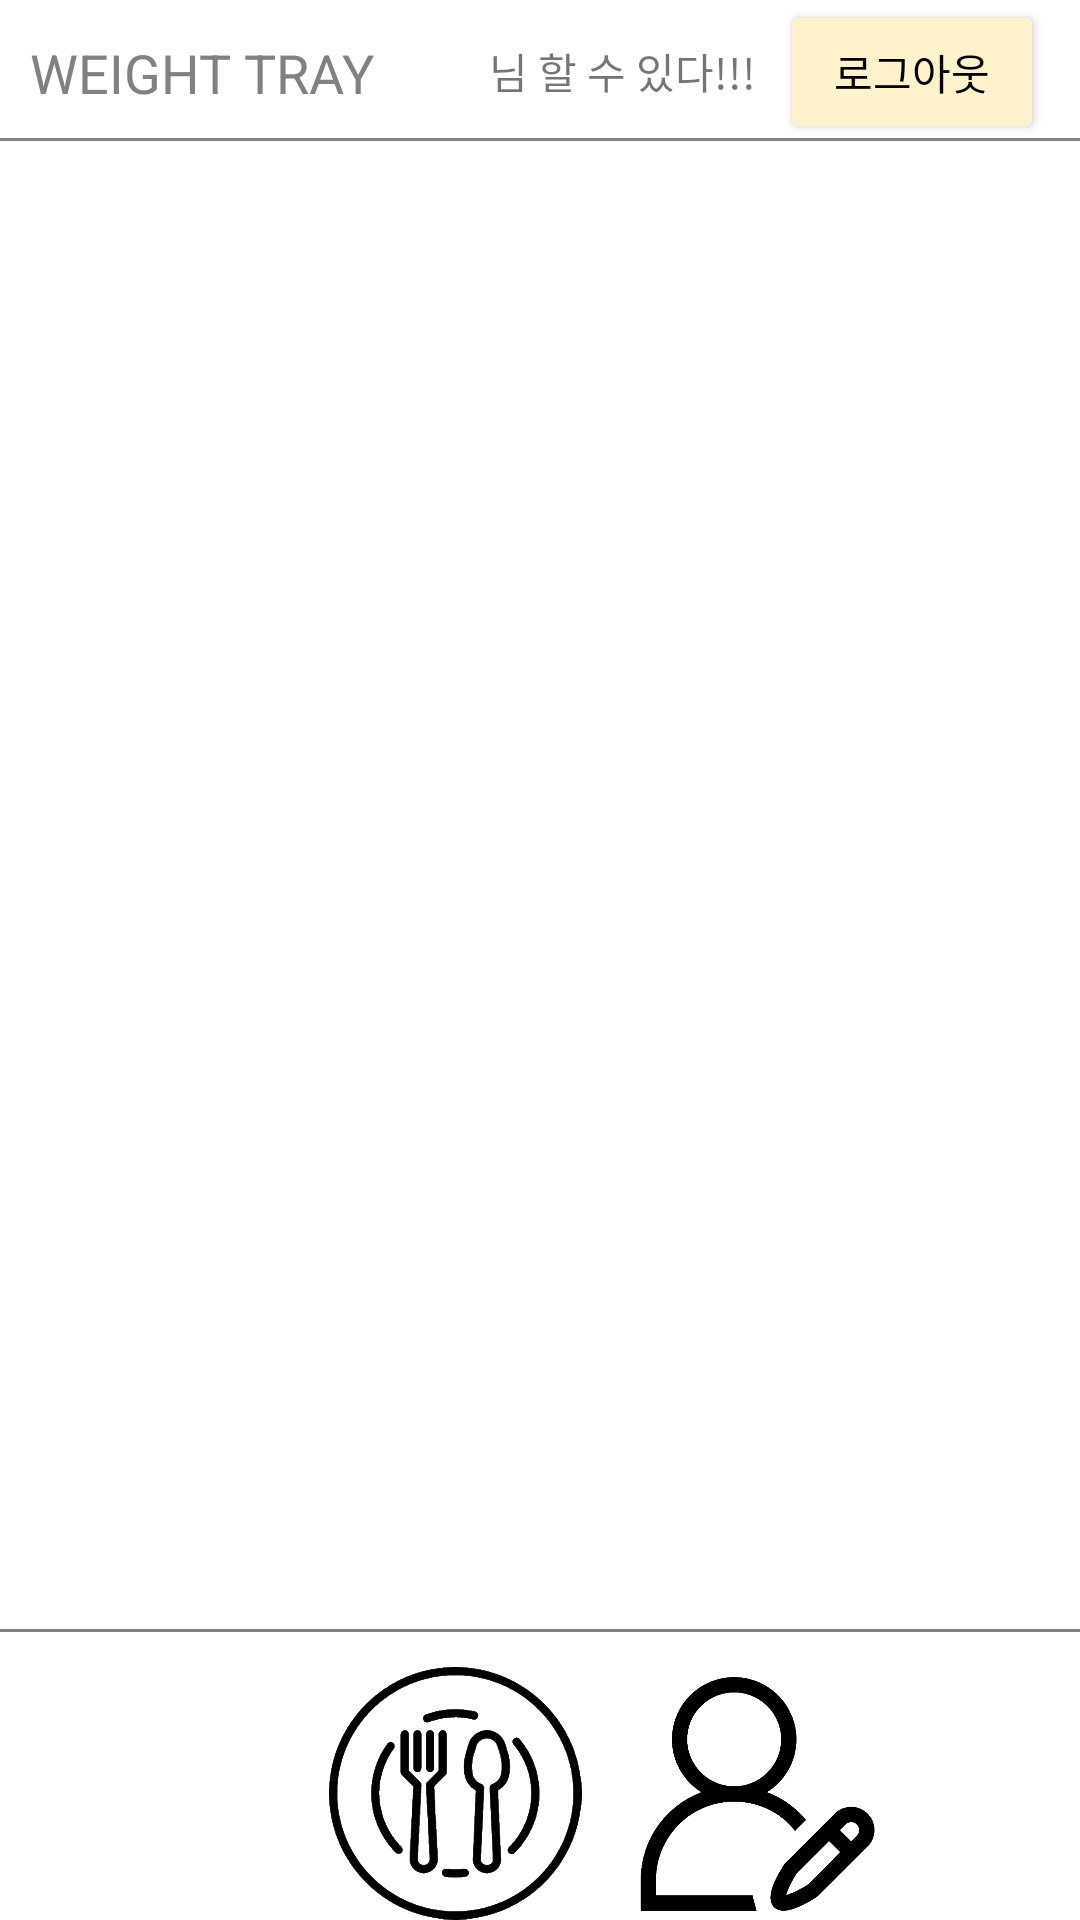

Locate icon controls on the screen. Image size 1080 x 1920, boxes as bbox=(x1, y1, x2, y2).
food: bbox=(329, 1667, 582, 1920)
user: bbox=(640, 1677, 875, 1911)
